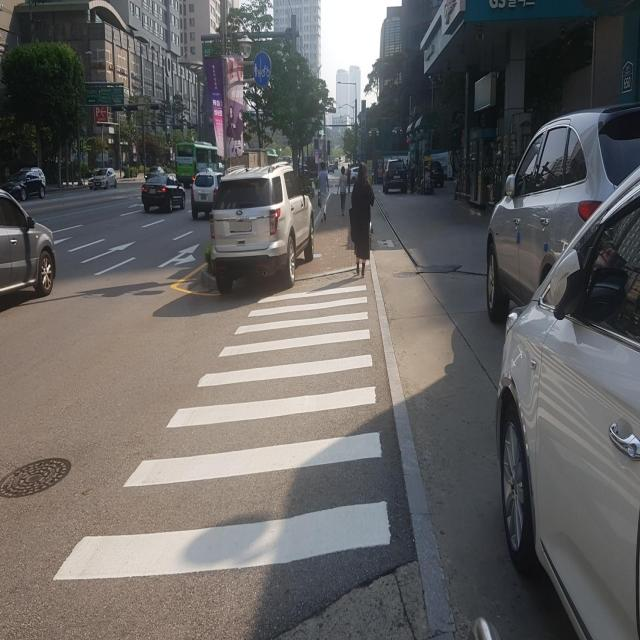횡단보도: (49, 278, 394, 586)
